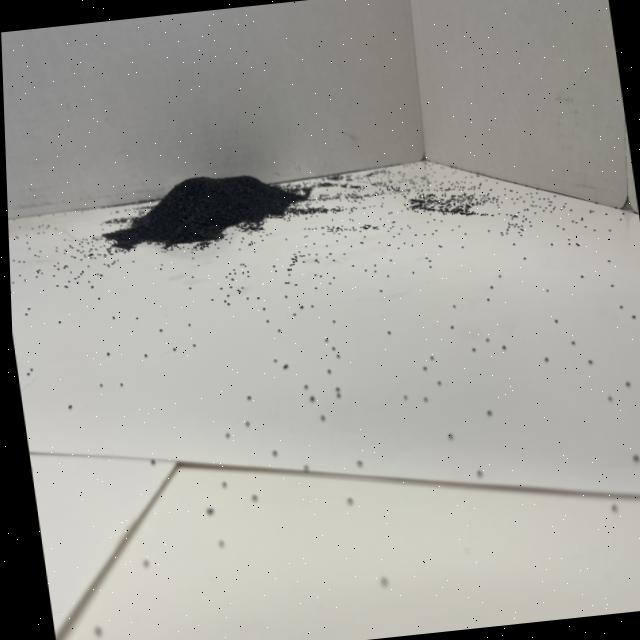Poppy Seeds: (94, 138, 331, 281)
